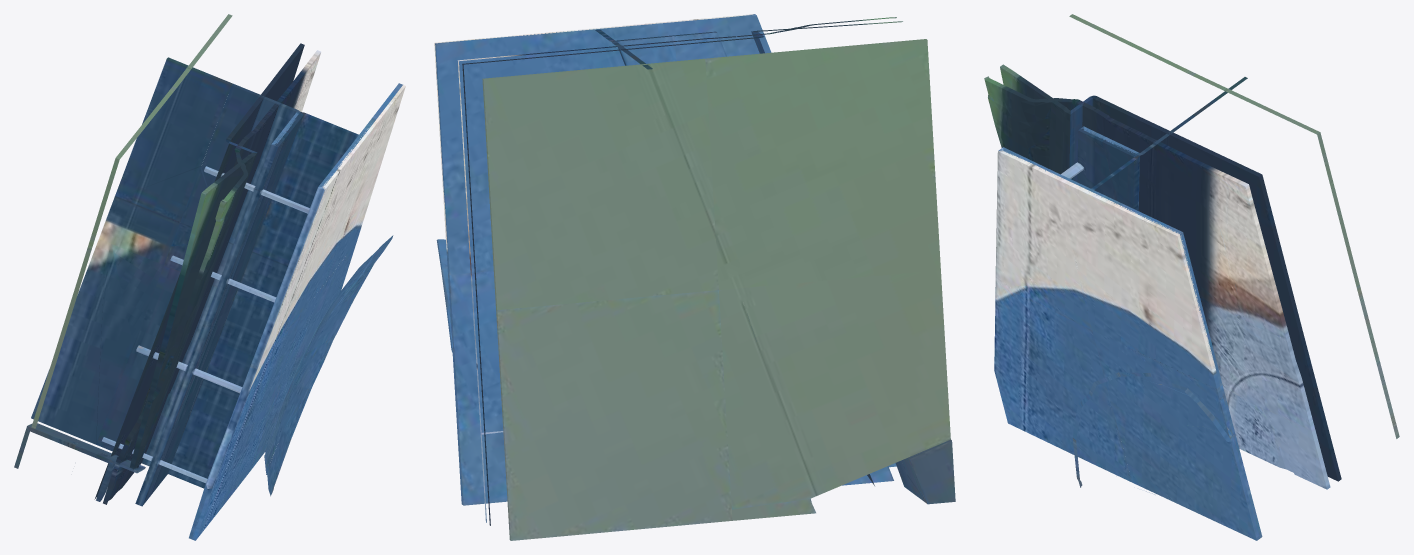
The model's file is congresso_tile_146.glb.
The picture shows the model from 3 angles, left to right: view 1: azimuth 30°, elevation 25°; view 2: azimuth 150°, elevation 25°; view 3: azimuth 270°, elevation 25°; orthographic projection. The views are drawn at different scales.
Bounding box in the file's own units: 47.55 × 43.58 × 41.05.
2 materials, 2 textured.
